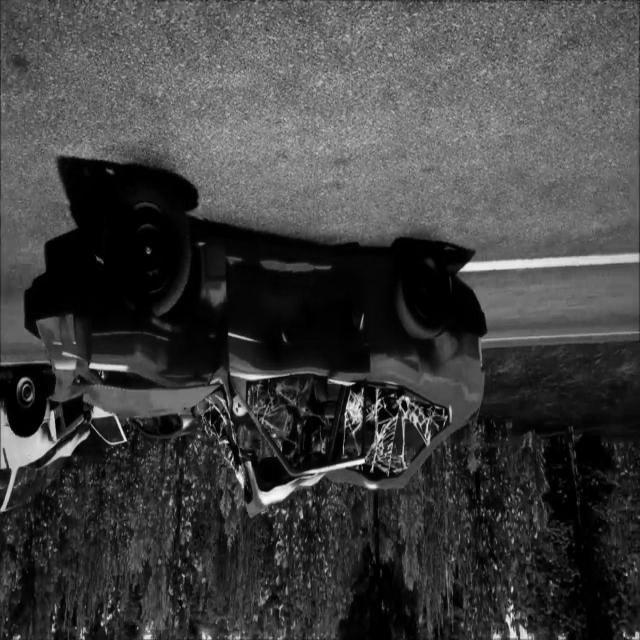severe: (28, 168, 490, 532)
